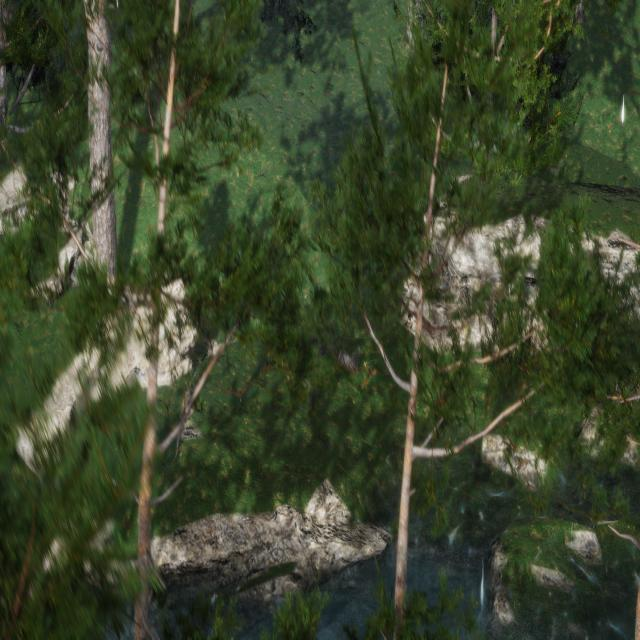Human: (310, 295, 368, 402)
